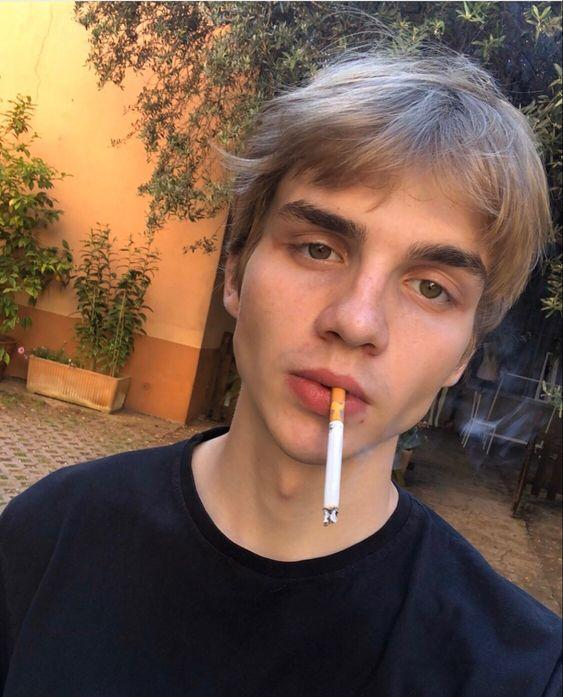cigarette: (323, 387, 346, 527)
